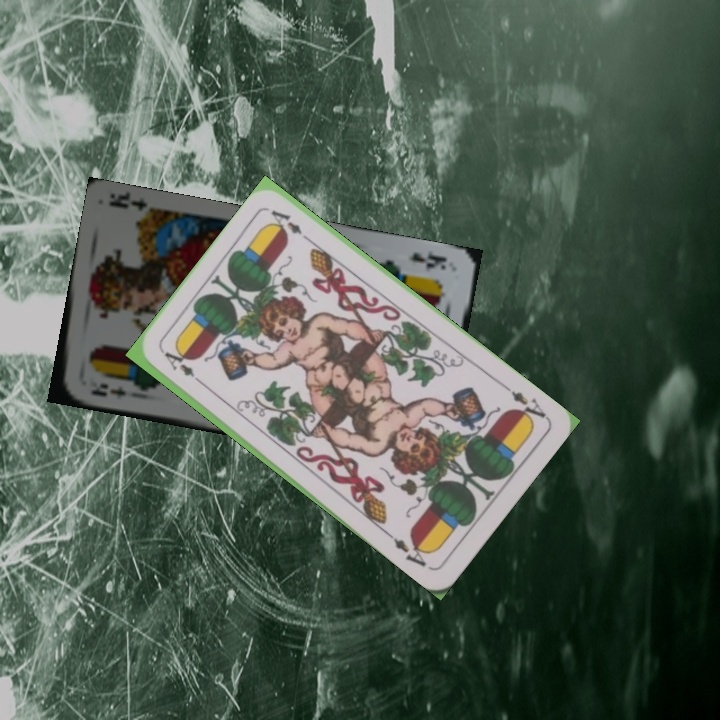EA: (499, 381, 550, 427), (160, 347, 208, 389)
EK: (405, 247, 449, 272), (87, 379, 128, 402)
